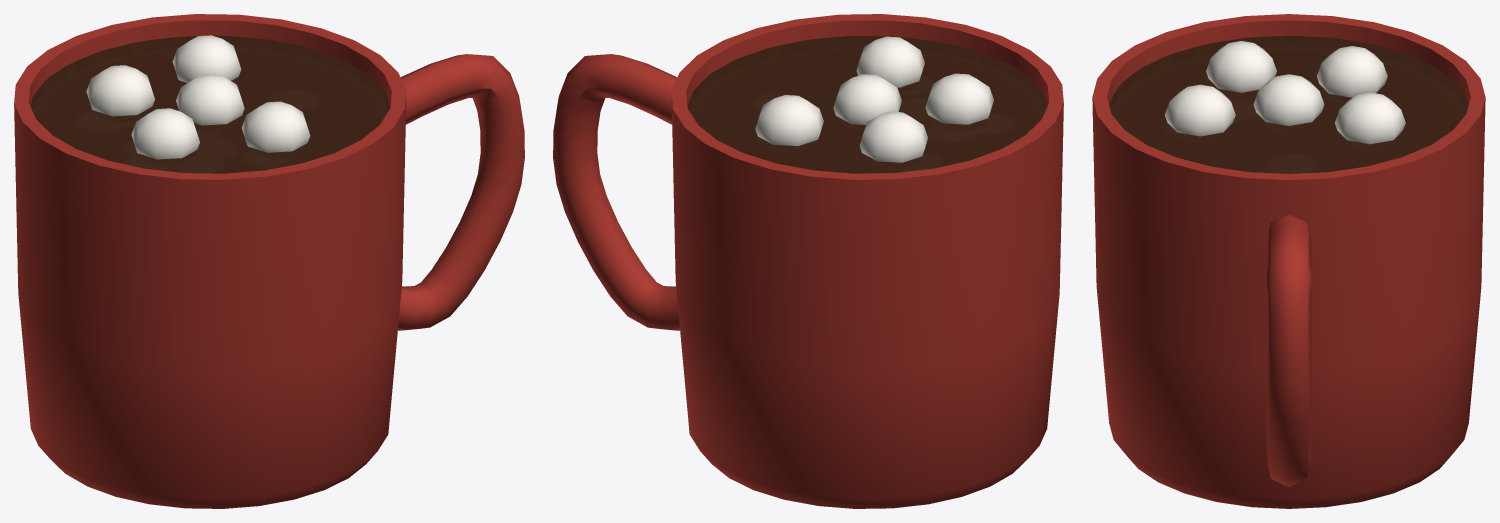
Rendered from drink_hot_cocoa_mug.glb.
3 views of the same model, side by side, from view 1: azimuth 30°, elevation 25°; view 2: azimuth 150°, elevation 25°; view 3: azimuth 270°, elevation 25° (orthographic).
Parts seen in each view (by area): view 1: drink_hot_cocoa_mug; view 2: drink_hot_cocoa_mug; view 3: drink_hot_cocoa_mug.
Boxes of the visible parts, x1,y1,x2,y2 form: drink_hot_cocoa_mug: (14, 14, 524, 508); drink_hot_cocoa_mug: (553, 14, 1063, 508); drink_hot_cocoa_mug: (1092, 14, 1485, 508).
Bounding box in the file's own units: 0.1333 × 0.095 × 0.094.
